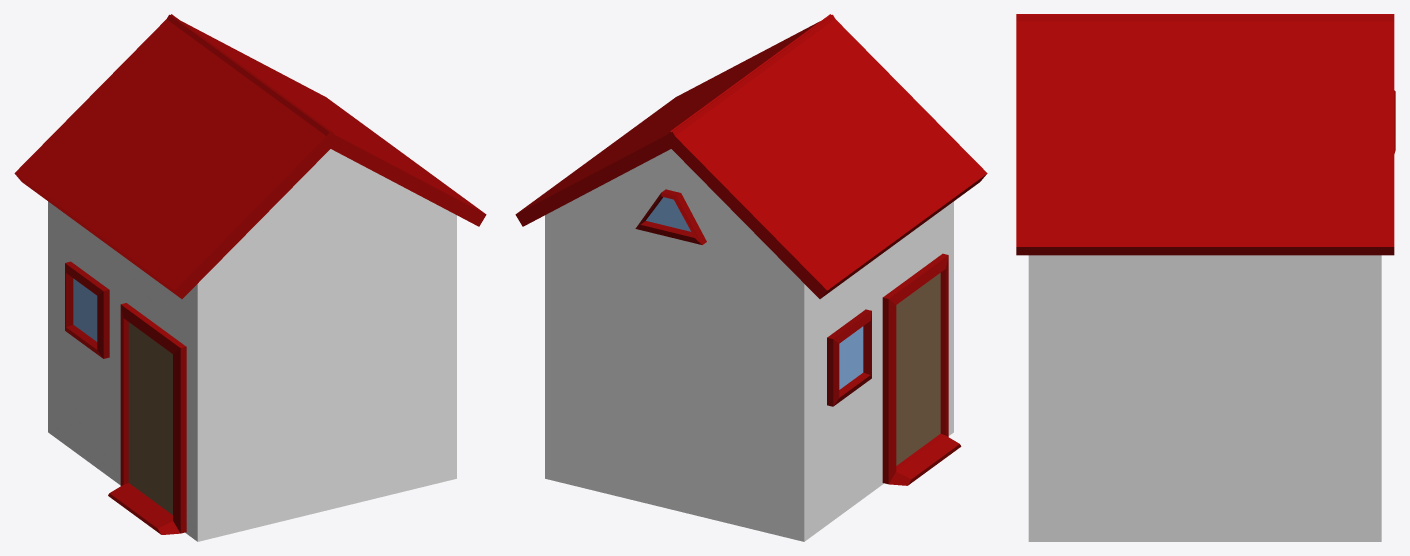
Rendered from house.obj.
3 views of the same model, side by side, from view 1: azimuth 30°, elevation 25°; view 2: azimuth 150°, elevation 25°; view 3: azimuth 270°, elevation 25° (orthographic). The views are drawn at different scales.
Parts seen in each view (by area): view 1: House; view 2: House; view 3: House.
Boxes of the visible parts, bbox=[...] form: House: bbox=[14, 14, 486, 541]; House: bbox=[515, 14, 987, 541]; House: bbox=[1016, 14, 1395, 541].
Bounding box in the file's own units: 1.2 × 1.41 × 1.08.
